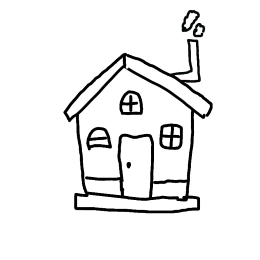closed_window: (156, 120, 189, 151), (115, 89, 145, 119), (84, 125, 111, 156)
door: (115, 131, 156, 199)
roof: (51, 49, 216, 122)
smoking_chimney: (160, 7, 221, 88)
wall: (71, 97, 198, 202)
